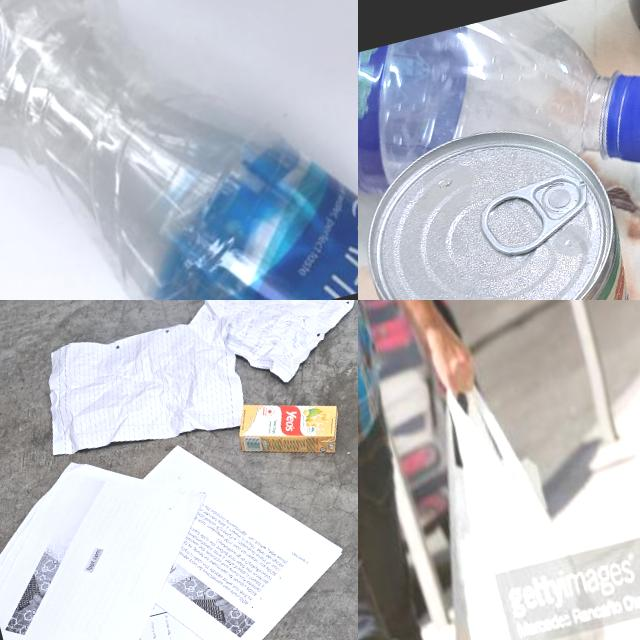aba de lata: (476, 170, 598, 260)
caixinha: (231, 382, 348, 476)
garrafa plástica: (0, 0, 358, 300), (358, 0, 620, 226)
lata: (358, 100, 640, 300)
papel: (0, 400, 358, 640), (28, 304, 250, 470), (168, 300, 358, 402)
sacola plástica: (375, 334, 636, 640)
tampa plástica: (593, 60, 640, 171)
